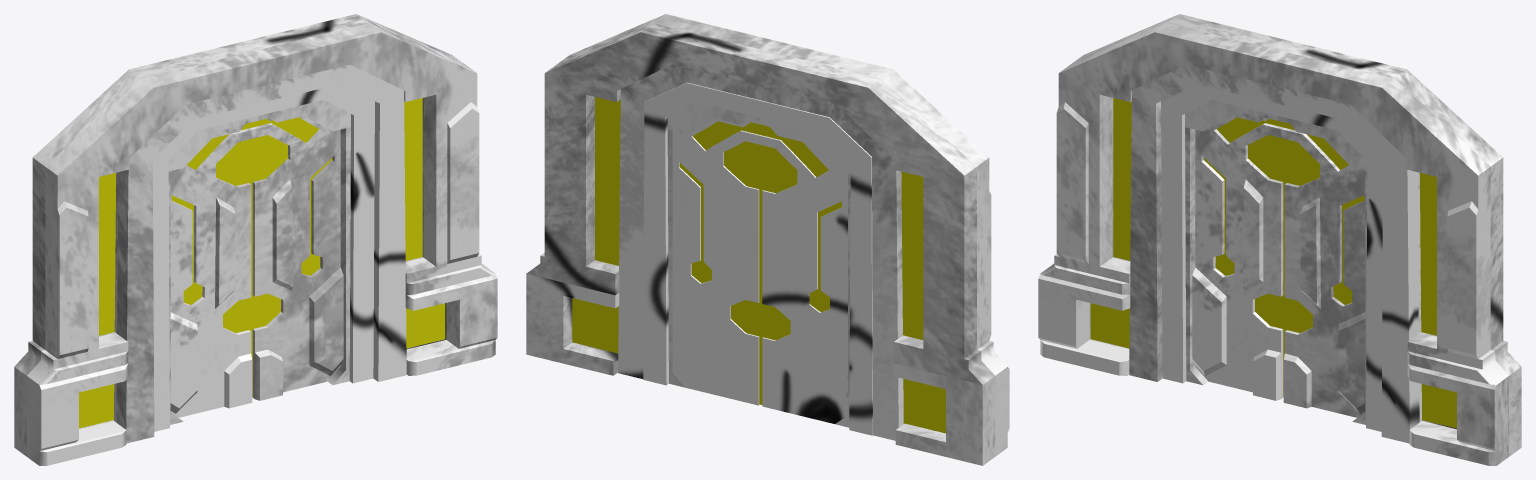
File: porta tesserino.fbx
The picture shows the model from 3 angles, left to right: view 1: azimuth 30°, elevation 25°; view 2: azimuth 150°, elevation 25°; view 3: azimuth 330°, elevation 25°; orthographic projection.
Visible parts, largest first — view 1: struttura_esterna, porta, sfondo_porta; view 2: struttura_esterna, porta, sfondo_porta; view 3: struttura_esterna, porta, sfondo_porta.
Part boxes in pixels (x1,y1,x2,y2): struttura_esterna: [14, 14, 497, 465]; porta: [170, 116, 343, 417]; sfondo_porta: [79, 98, 445, 428]; struttura_esterna: [526, 14, 1009, 465]; porta: [672, 102, 847, 423]; sfondo_porta: [572, 97, 945, 433]; struttura_esterna: [1038, 14, 1521, 465]; porta: [1192, 116, 1365, 417]; sfondo_porta: [1090, 98, 1456, 428].
Bounding box in the file's own units: 2.26 × 1.65 × 0.2298.
2 materials, 1 textured.
